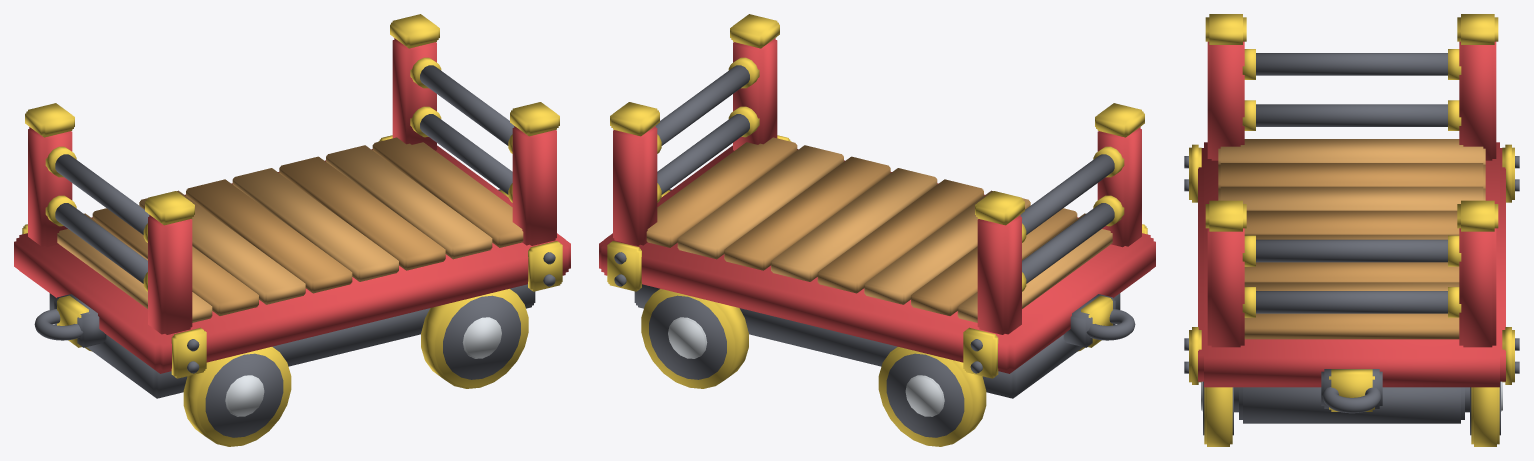
File: carriage-heavy.glb
The picture shows the model from 3 angles, left to right: view 1: azimuth 30°, elevation 25°; view 2: azimuth 150°, elevation 25°; view 3: azimuth 270°, elevation 25°; orthographic projection. The views are drawn at different scales.
Parts seen in each view (by area): view 1: ChassisFrame, Plank_3, Plank_6, Plank_5, Plank_4, Undercarriage, Plank_7, Post_-0.43_-0.245, Post_0.43_-0.245, Plank_2, WheelCore_-0.28_-0.26, WheelCore_0.28_-0.26 (+21 smaller); view 2: ChassisFrame, Plank_3, Plank_6, Plank_5, Plank_4, Undercarriage, Plank_7, Post_-0.43_0.245, Post_0.43_0.245, Plank_2, WheelCore_-0.28_0.26, WheelCore_0.28_0.26 (+21 smaller); view 3: ChassisFrame, Undercarriage, Plank_1, Plank_2, Plank_0, Plank_7, Plank_3, EndRail_0.43_0.48, Plank_5, EndRail_0.43_0.37, EndRail_-0.43_0.37, EndRail_-0.43_0.48 (+27 smaller).
Boxes of the visible parts, bbox=[...] form: ChassisFrame: bbox=[14, 145, 570, 373]; Plank_3: bbox=[186, 179, 352, 293]; Plank_6: bbox=[326, 145, 492, 259]; Plank_5: bbox=[279, 156, 445, 270]; Plank_4: bbox=[232, 168, 398, 281]; Undercarriage: bbox=[49, 284, 535, 398]; Plank_7: bbox=[372, 137, 523, 247]; Post_-0.43_-0.245: bbox=[148, 215, 192, 334]; Post_0.43_-0.245: bbox=[512, 126, 556, 245]; Plank_2: bbox=[139, 190, 305, 304]; WheelCore_-0.28_-0.26: bbox=[205, 353, 283, 437]; WheelCore_0.28_-0.26: bbox=[443, 295, 520, 379]; ChassisFrame: bbox=[599, 145, 1155, 373]; Plank_3: bbox=[817, 179, 983, 293]; Plank_6: bbox=[677, 145, 843, 259]; Plank_5: bbox=[724, 156, 890, 270]; Plank_4: bbox=[771, 168, 937, 281]; Undercarriage: bbox=[634, 284, 1120, 398]; Plank_7: bbox=[646, 137, 797, 247]; Post_-0.43_0.245: bbox=[977, 215, 1021, 334]; Post_0.43_0.245: bbox=[613, 126, 657, 245]; Plank_2: bbox=[864, 190, 1030, 304]; WheelCore_-0.28_0.26: bbox=[886, 353, 964, 437]; WheelCore_0.28_0.26: bbox=[649, 295, 726, 379]; ChassisFrame: bbox=[1198, 142, 1505, 387]; Undercarriage: bbox=[1239, 387, 1464, 423]; Plank_1: bbox=[1218, 163, 1485, 188]; Plank_2: bbox=[1218, 186, 1485, 210]; Plank_0: bbox=[1218, 139, 1485, 164]; Plank_7: bbox=[1244, 313, 1459, 339]; Plank_3: bbox=[1244, 210, 1459, 234]; EndRail_0.43_0.48: bbox=[1256, 239, 1447, 262]; Plank_5: bbox=[1244, 262, 1459, 282]; EndRail_0.43_0.37: bbox=[1256, 291, 1447, 313]; EndRail_-0.43_0.37: bbox=[1256, 104, 1447, 126]; EndRail_-0.43_0.48: bbox=[1256, 53, 1447, 75].
Size of the model in its own units: 1.2 by 0.573 by 0.653.
